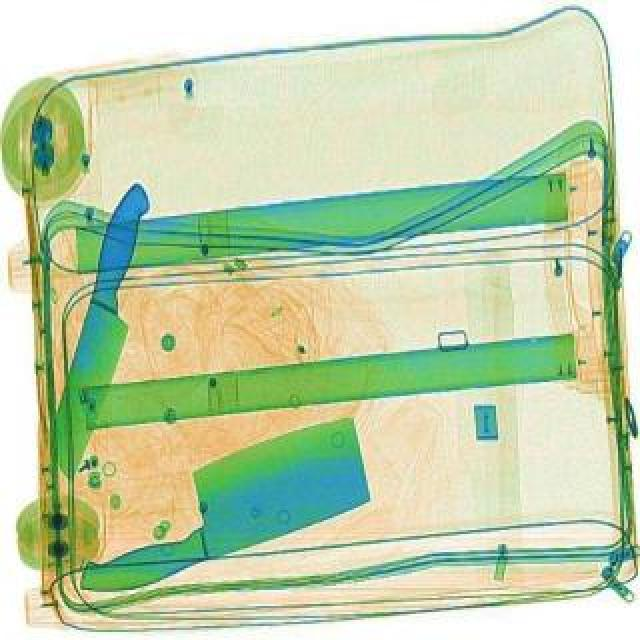knife: (40, 400, 390, 612), (40, 172, 156, 488)
